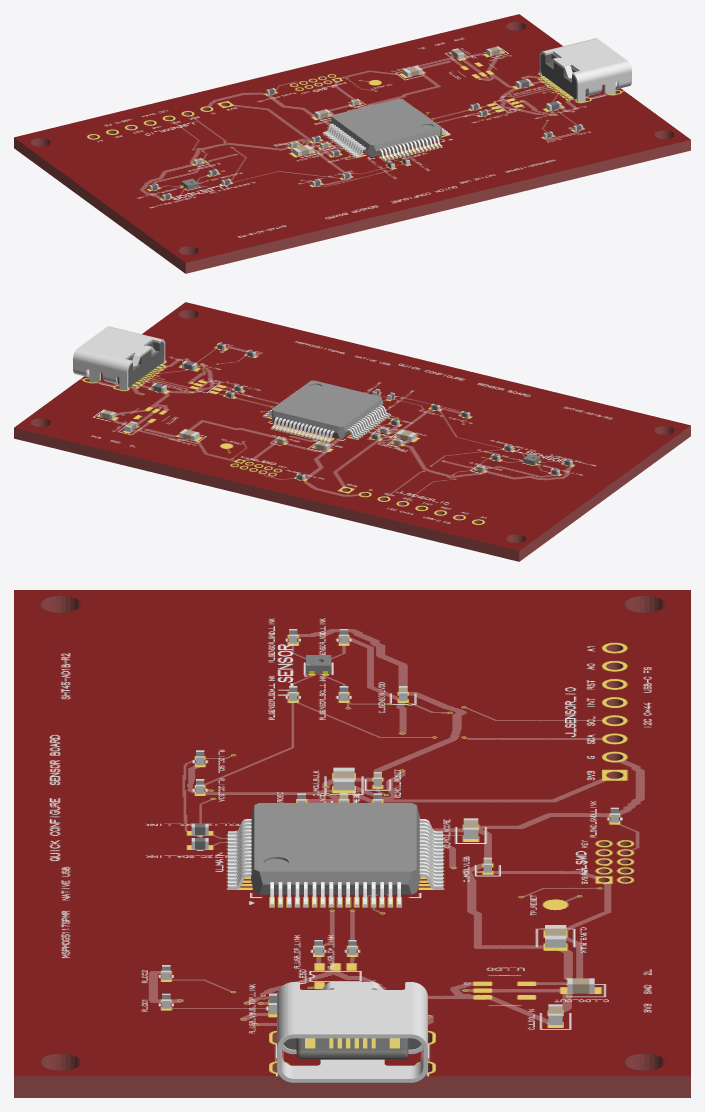
The picture shows the model from 3 angles, top to bottom: view 1: azimuth 30°, elevation 25°; view 2: azimuth 150°, elevation 25°; view 3: azimuth 270°, elevation 25°; orthographic projection. The views are drawn at different scales.
Visible parts, largest first — view 1: Box0, U_MAIN, J_USB; view 2: Box0, U_MAIN, J_USB; view 3: Box0, U_MAIN, J_USB.
Boxes of the visible parts, x1=… form: Box0: x1=14, y1=14, x2=690, y2=273; U_MAIN: x1=322, y1=98, x2=450, y2=161; J_USB: x1=539, y1=38, x2=631, y2=102; Box0: x1=14, y1=302, x2=690, y2=561; U_MAIN: x1=263, y1=380, x2=390, y2=442; J_USB: x1=73, y1=326, x2=165, y2=390; Box0: x1=14, y1=590, x2=690, y2=1097; U_MAIN: x1=228, y1=803, x2=442, y2=907; J_USB: x1=277, y1=982, x2=427, y2=1082.
Size of the model in its own units: 69.04 by 4.65 by 40.
17 materials, 2 textured.
